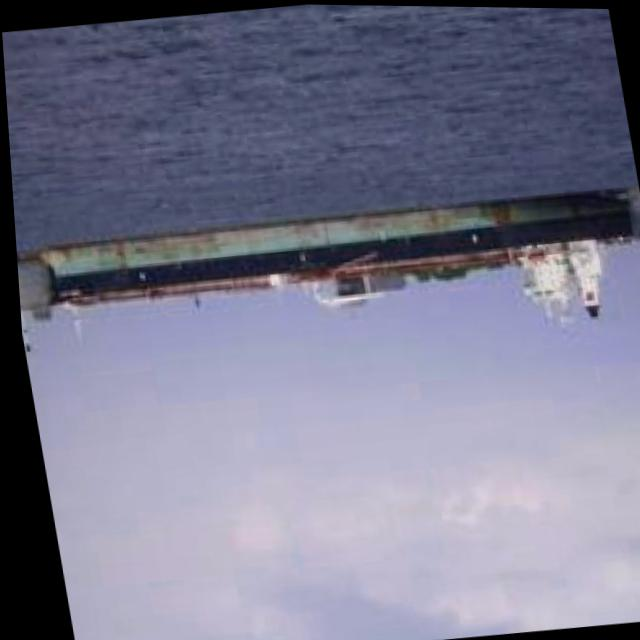ship2: (35, 190, 630, 343)
